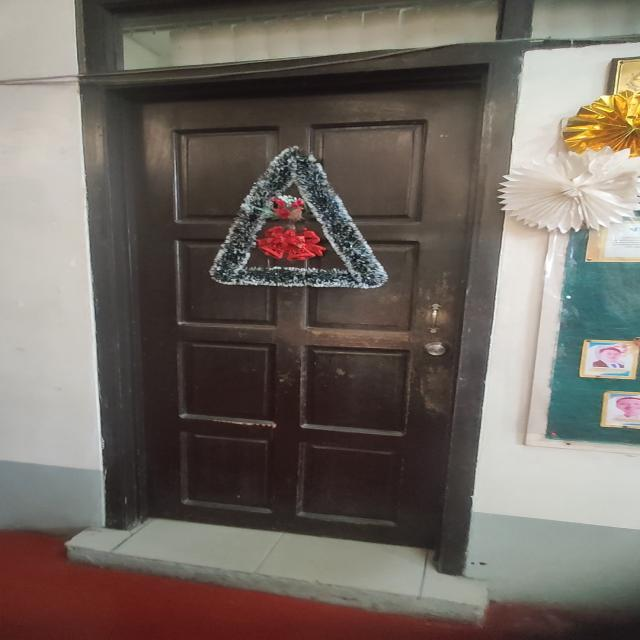door: (109, 52, 480, 547)
